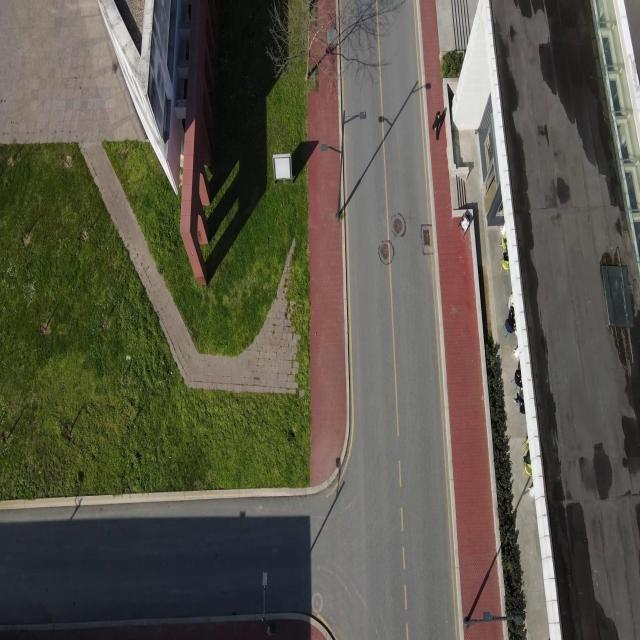p3rson: (433, 111, 441, 140)
